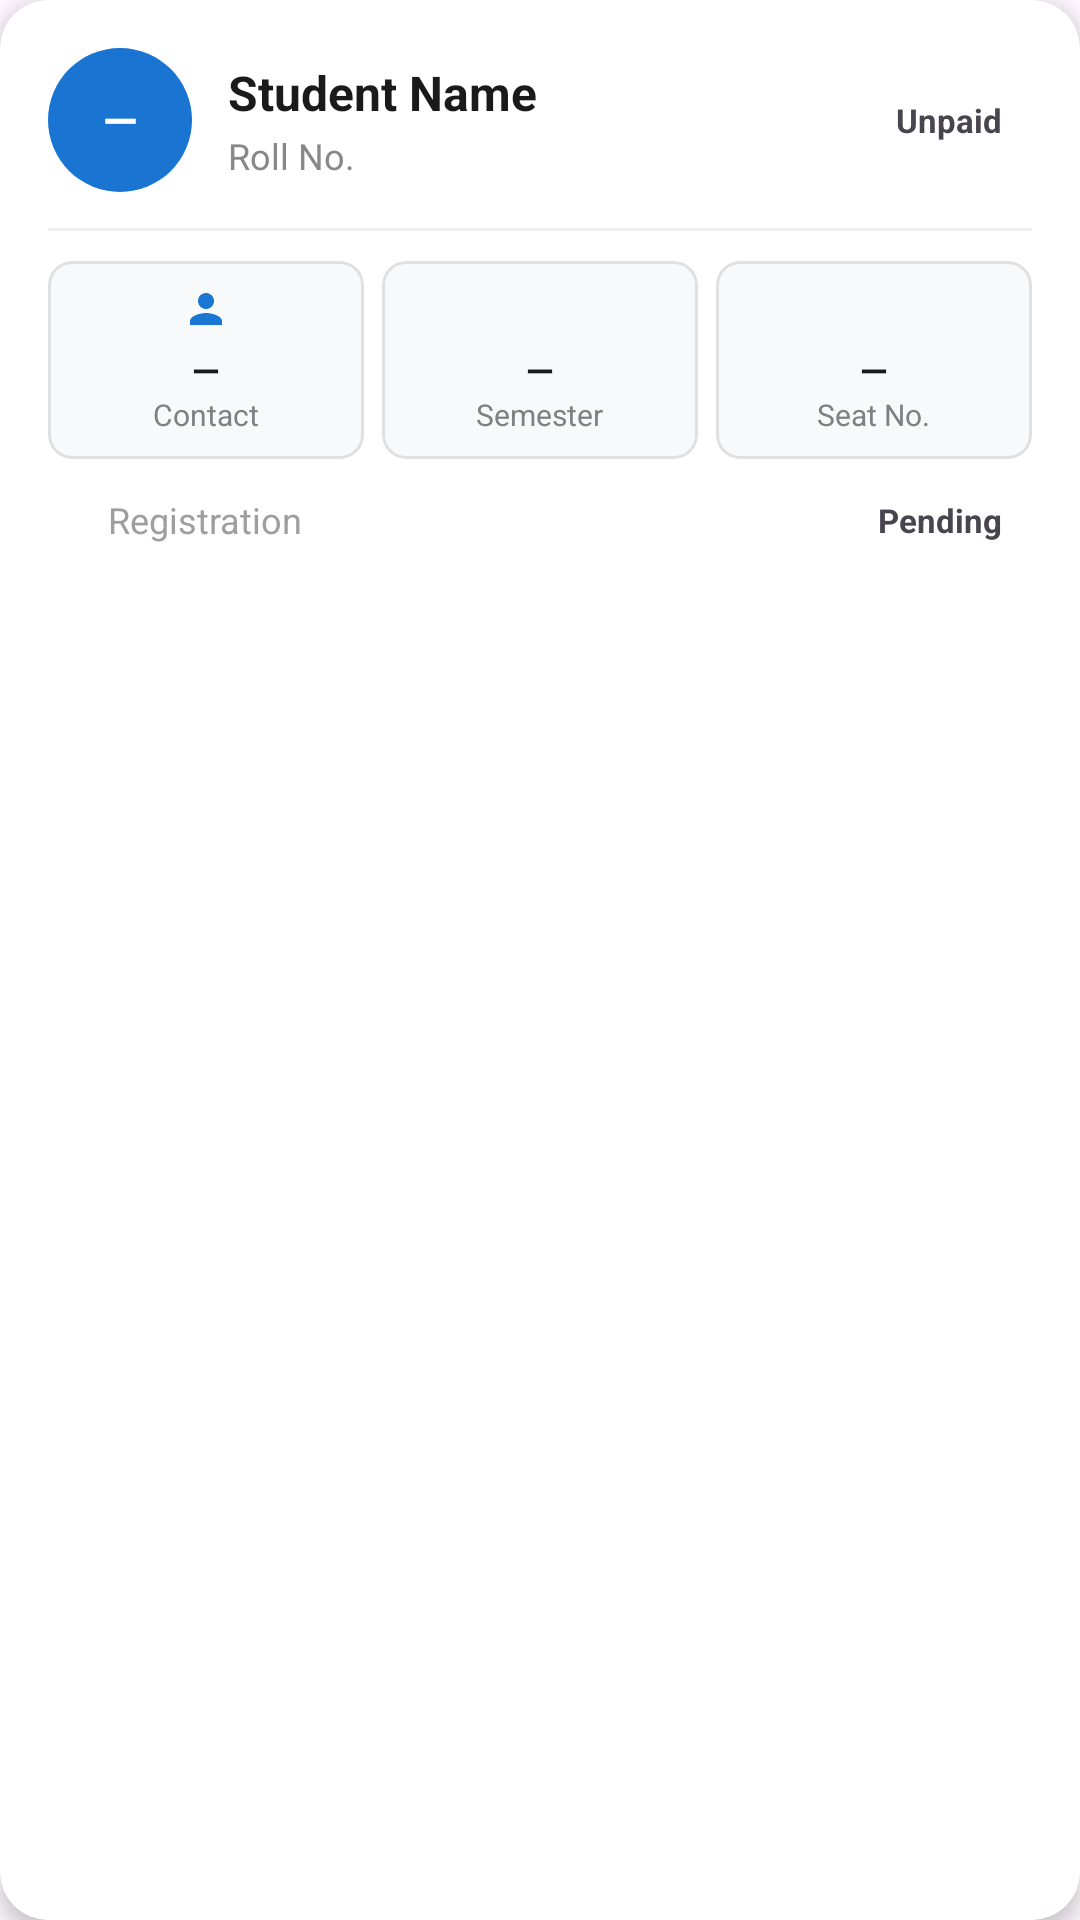

Icon bounding boxes for this 1080*1920 phone screenshot, format (x1, y1, x2, y2):
person: (190, 293, 222, 325)
